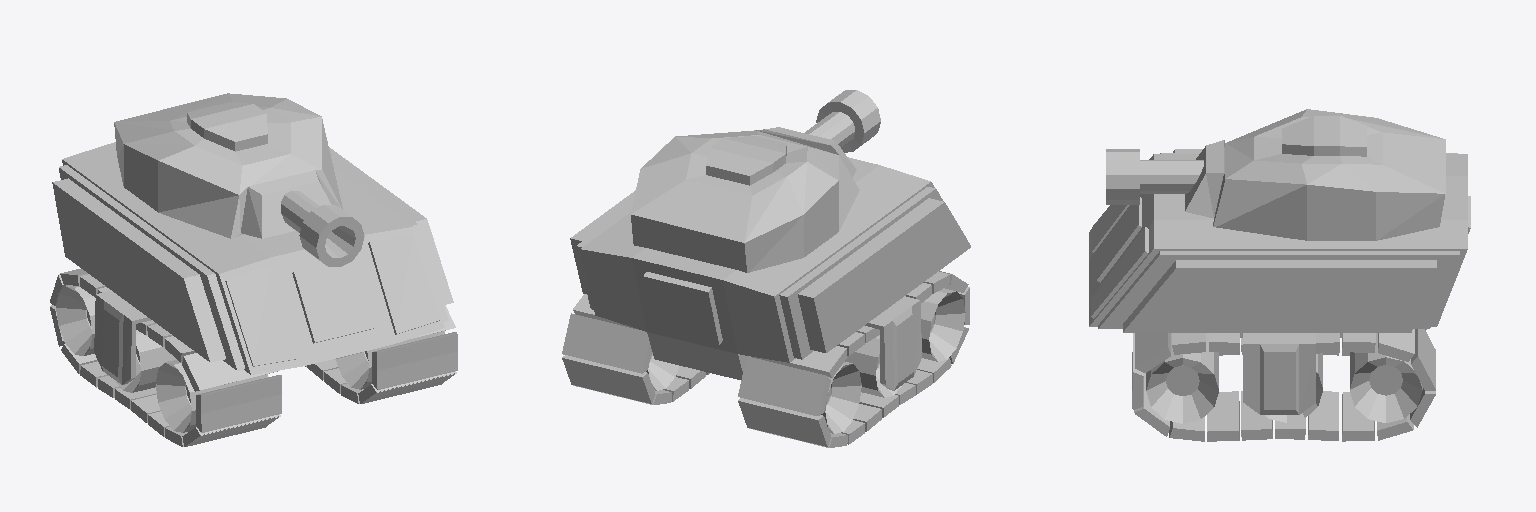
The model's file is cartoon tank.obj.
3 renders of one model, left to right at view 1: azimuth 30°, elevation 25°; view 2: azimuth 150°, elevation 25°; view 3: azimuth 270°, elevation 25°, orthographic.
Visible parts, largest first — view 1: Cube.002, Cube.000_Cube.003, Cylinder.001, Cube.001, Cylinder; view 2: Cube.002, Cube.000_Cube.003, Cylinder.001, Cube.001, Cylinder; view 3: Cube.002, Cylinder, Cube.001.
Part boxes in pixels (bbox=[...]): Cube.002: bbox=[52, 93, 453, 374]; Cube.000_Cube.003: bbox=[50, 269, 281, 446]; Cylinder.001: bbox=[56, 285, 267, 432]; Cube.001: bbox=[305, 305, 457, 403]; Cylinder: bbox=[335, 331, 444, 389]; Cube.002: bbox=[570, 90, 970, 379]; Cube.000_Cube.003: bbox=[738, 271, 969, 447]; Cylinder.001: bbox=[821, 288, 965, 433]; Cube.001: bbox=[562, 294, 709, 404]; Cylinder: bbox=[646, 352, 679, 390]; Cube.002: bbox=[1089, 109, 1470, 337]; Cylinder: bbox=[1146, 333, 1422, 423]; Cube.001: bbox=[1132, 329, 1435, 441].
Size of the model in its own units: 8.97 by 7.46 by 10.45.